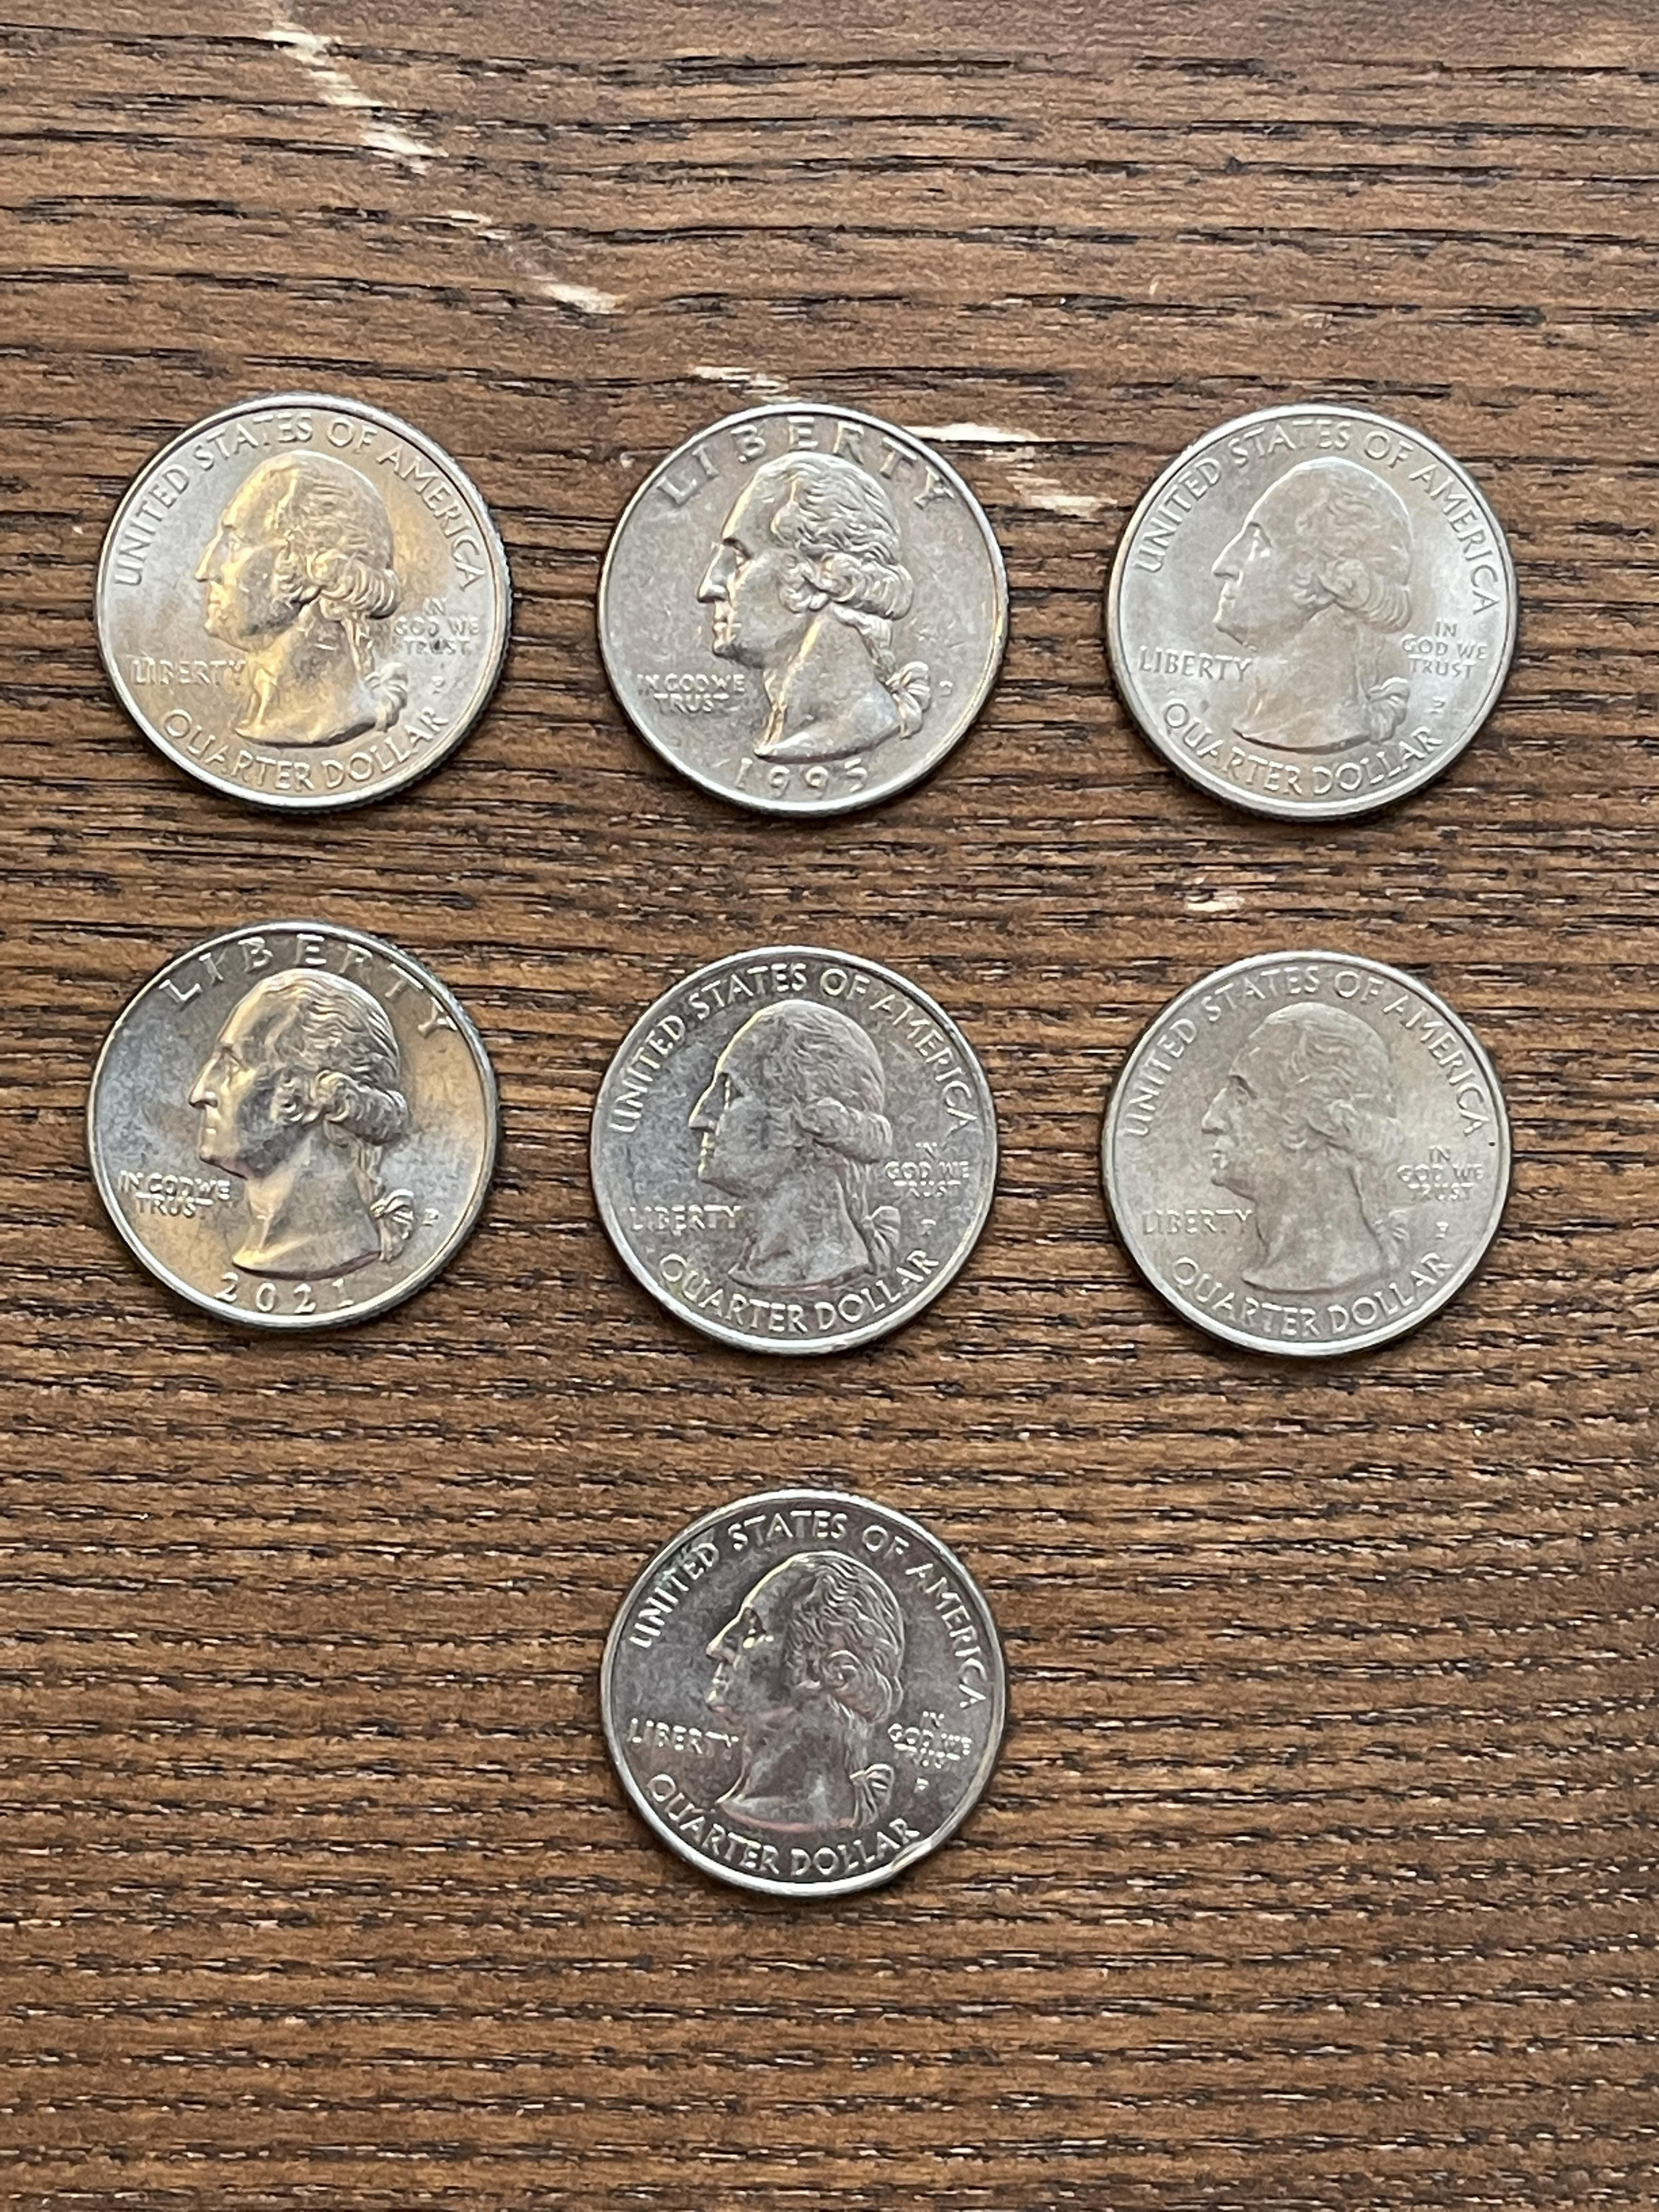Quarter: (91, 388, 518, 815), (80, 918, 507, 1338), (592, 397, 1012, 822), (1101, 404, 1520, 820), (587, 942, 1002, 1360), (1098, 949, 1518, 1362), (598, 1486, 1011, 1902)
